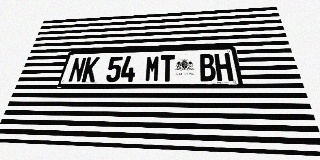4: (120, 56, 137, 82)
5: (105, 56, 123, 82)
B: (199, 54, 217, 81)
H: (214, 53, 234, 81)
K: (81, 57, 100, 82)
M: (144, 55, 160, 82)
N: (68, 57, 87, 82)
T: (160, 55, 175, 82)
